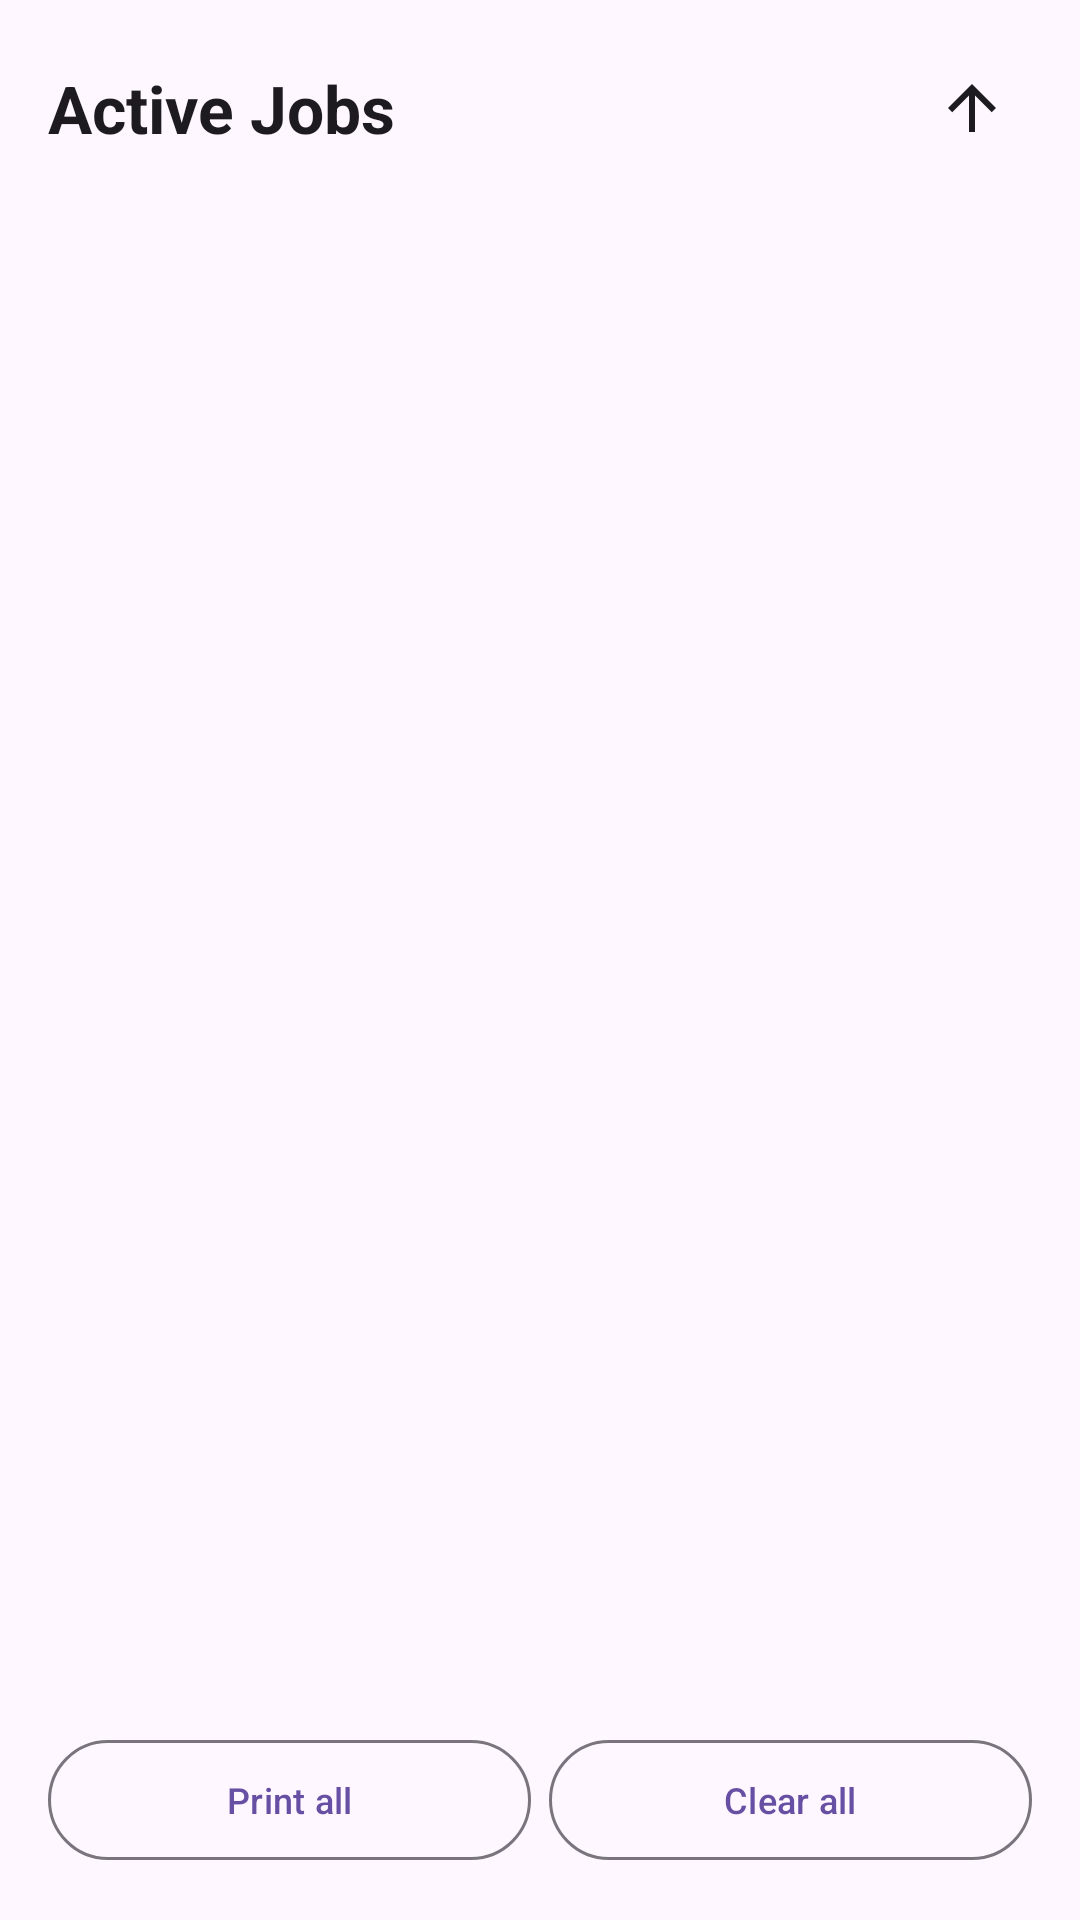

Point at icon controls on the screen. Image size 1080x1920, points as point (x, y).
Oldest first: point (972, 108)
